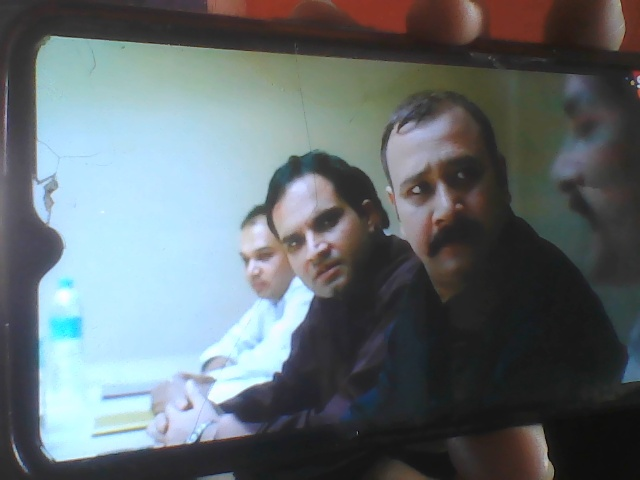fake: (382, 78, 524, 280), (266, 142, 384, 310)
